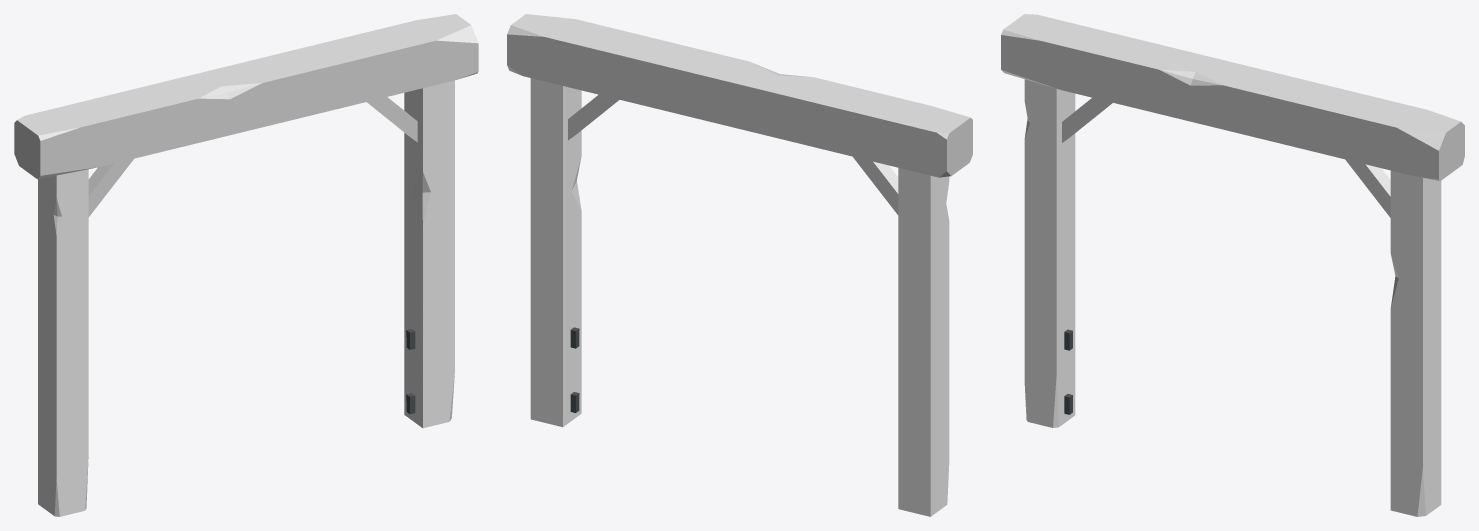
File: Mesh_Props_Arch_05.FBX
3 views of the same model, side by side, from view 1: azimuth 30°, elevation 25°; view 2: azimuth 150°, elevation 25°; view 3: azimuth 330°, elevation 25° (orthographic).
Visible parts, largest first — view 1: Mesh_Props_Arch_05; view 2: Mesh_Props_Arch_05; view 3: Mesh_Props_Arch_05.
Part boxes in pixels (x1,y1,x2,y2): Mesh_Props_Arch_05: [14, 14, 478, 516]; Mesh_Props_Arch_05: [507, 14, 972, 516]; Mesh_Props_Arch_05: [1001, 14, 1464, 516].
Bounding box in the file's own units: 467 × 47.87 × 395.
